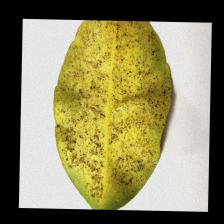canker: (55, 34, 162, 166)
